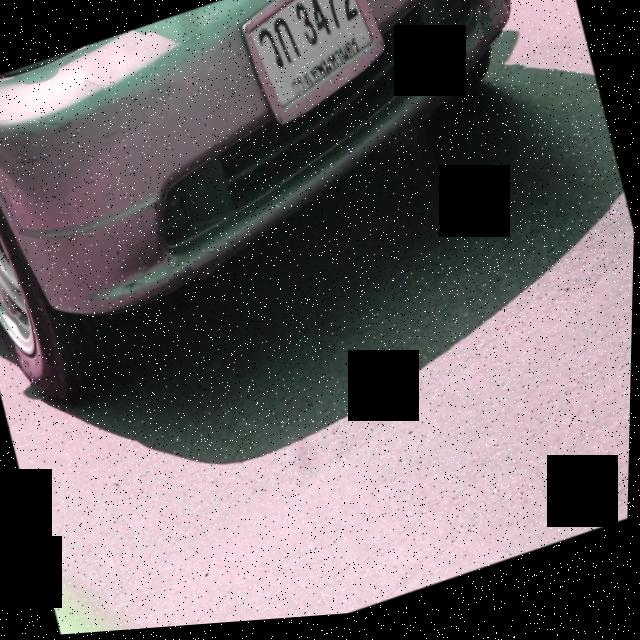text: (252, 0, 373, 112)
